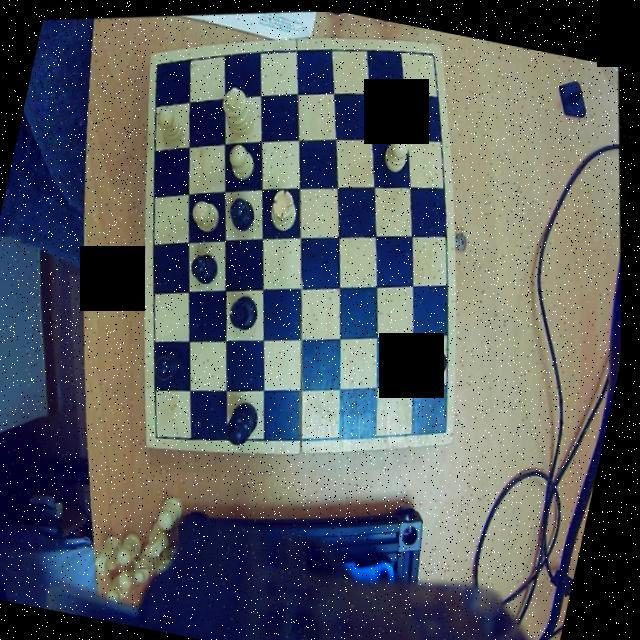chess-table-corners: (432, 408, 464, 442), (150, 421, 180, 452), (146, 49, 172, 83), (417, 36, 444, 65)
